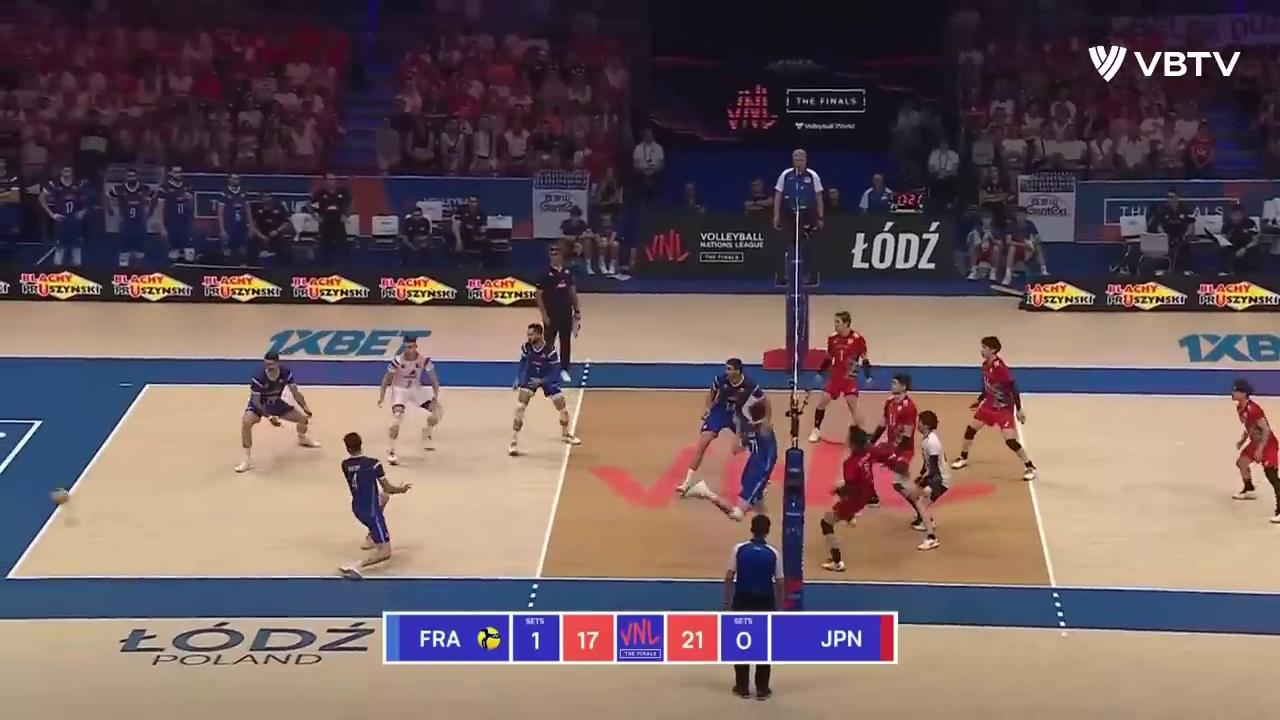ball: (51, 489, 70, 506)
